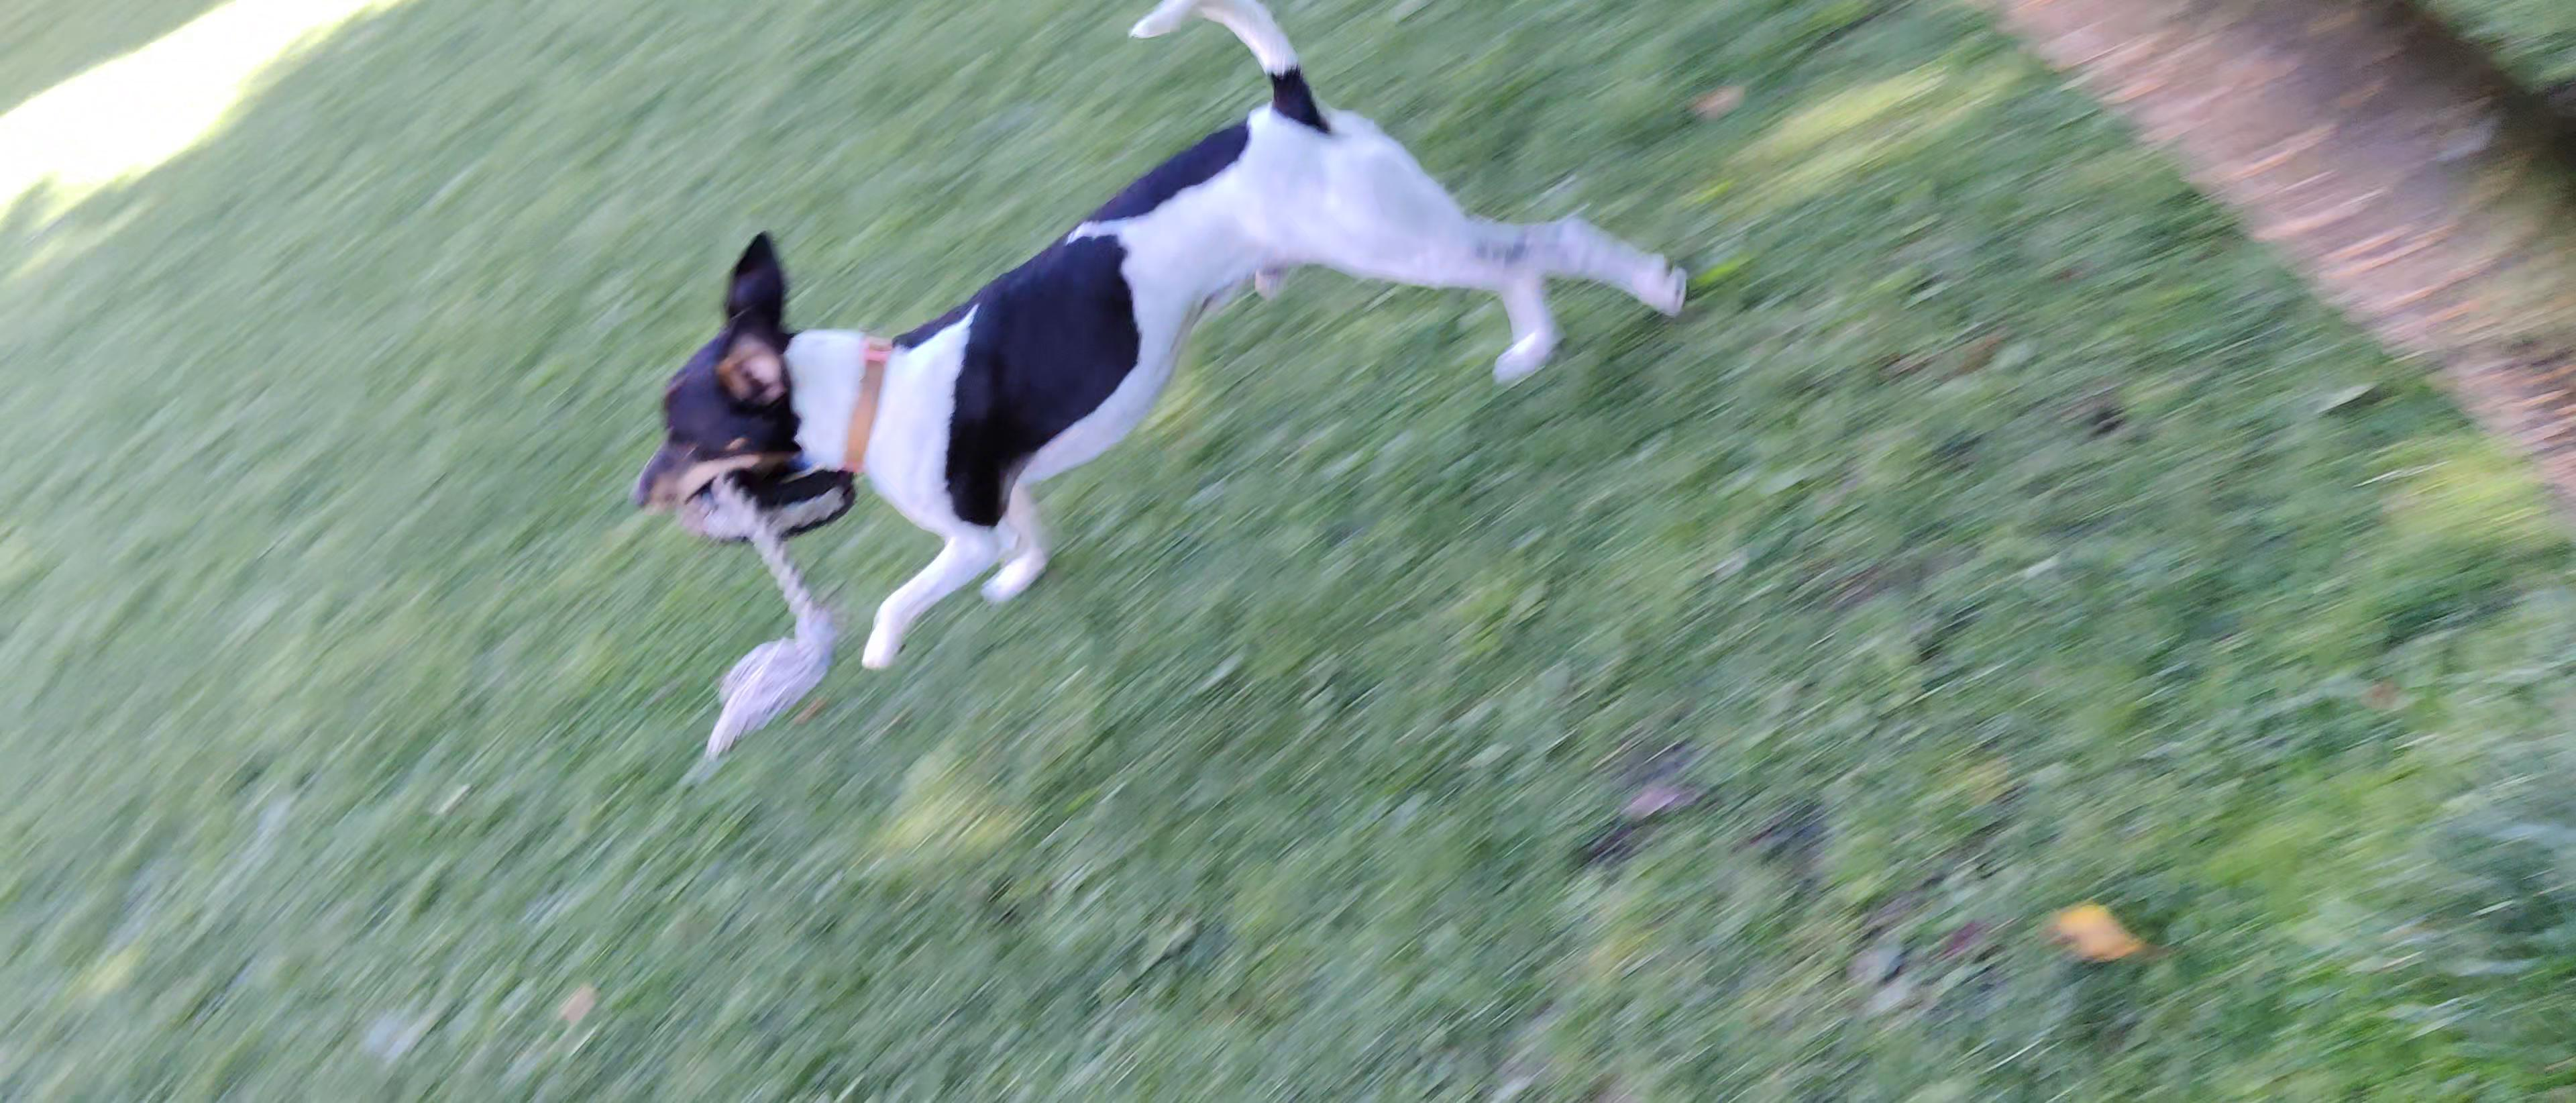Dog: (626, 0, 1700, 677)
